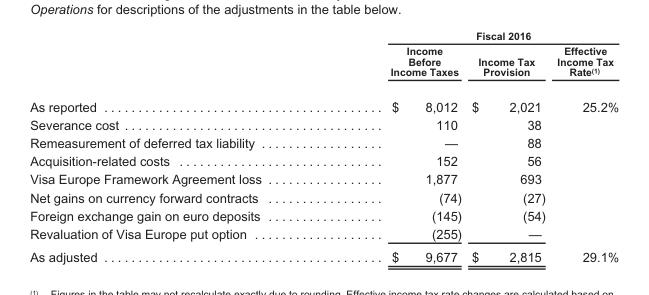table: (29, 29, 618, 263)
table column: (29, 29, 325, 263), (325, 29, 466, 263), (466, 29, 550, 263), (550, 29, 618, 263)
table column header: (29, 29, 618, 88)
table row: (29, 42, 618, 88), (29, 88, 618, 115), (29, 224, 618, 244), (29, 205, 618, 224), (29, 244, 618, 263), (29, 115, 618, 133), (29, 133, 618, 151), (29, 151, 618, 169), (29, 169, 618, 187), (29, 187, 618, 205), (29, 29, 618, 42)
table spanning cell: (325, 29, 618, 42)
